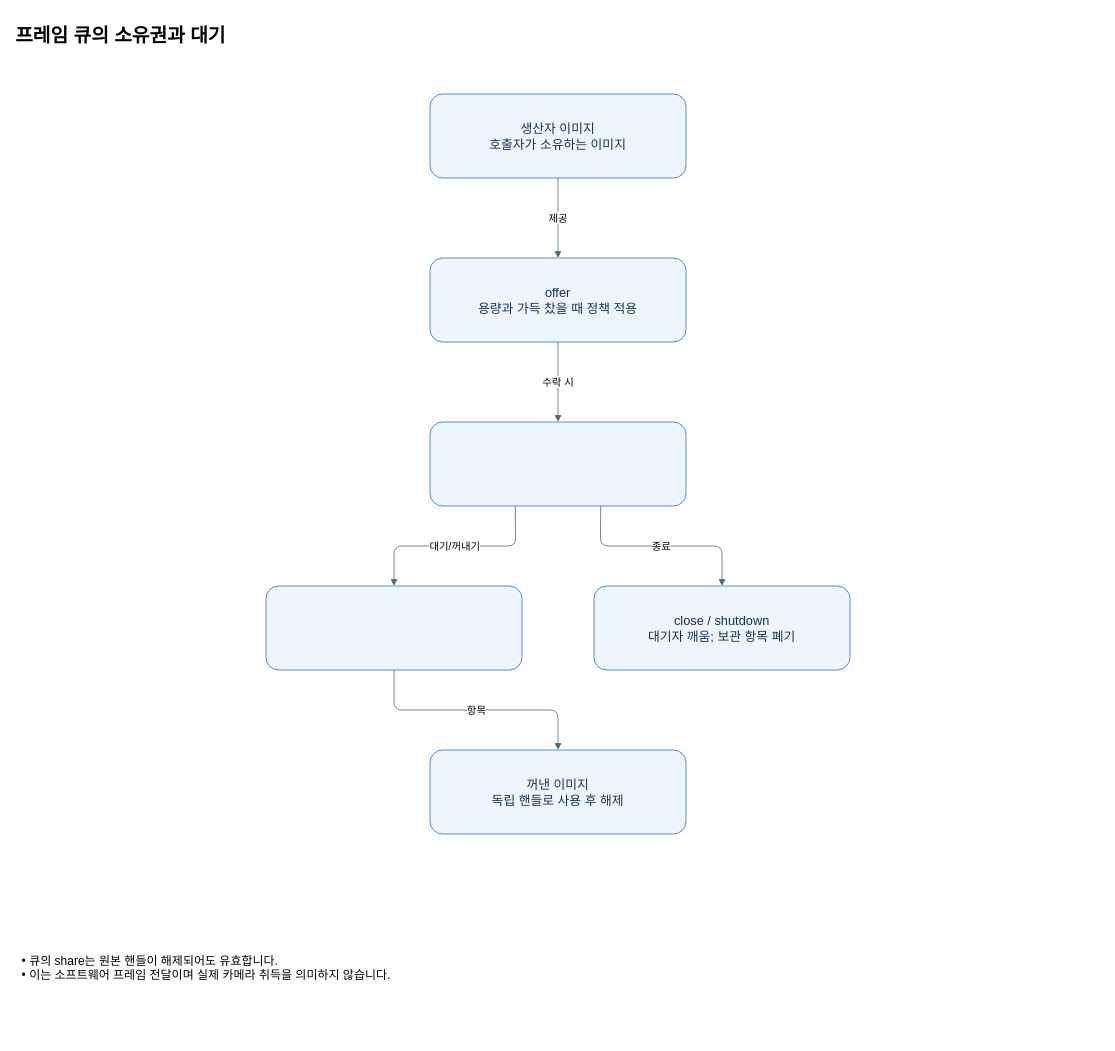
Some shapes in this 1115 by 1051 pixel diagram are drawn without their labels. The shapes that lost their labels are listed below. From the top down, each one's box as (x1, y1, x2, y2) in pixels, then its label:
(429, 421, 686, 506): 유한 FIFO 큐 저장된 영상은 소유 share
(265, 585, 522, 670): take 항목·시간 초과·닫힘 확인
